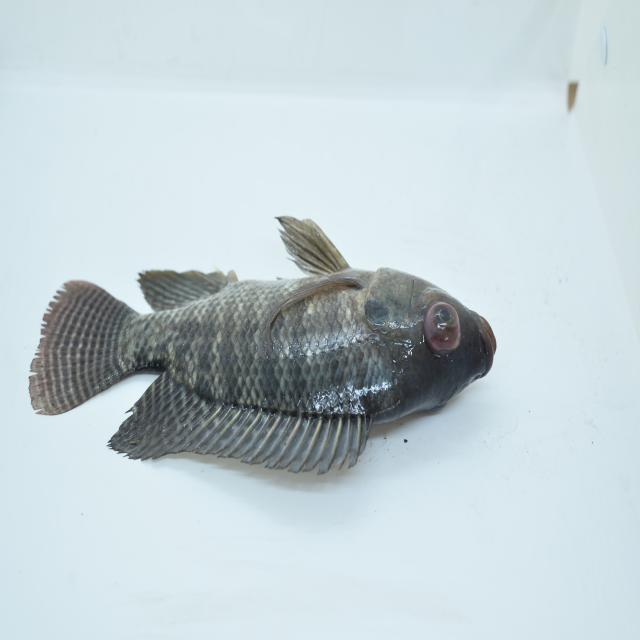streptococcus Disease: (26, 206, 500, 479)
